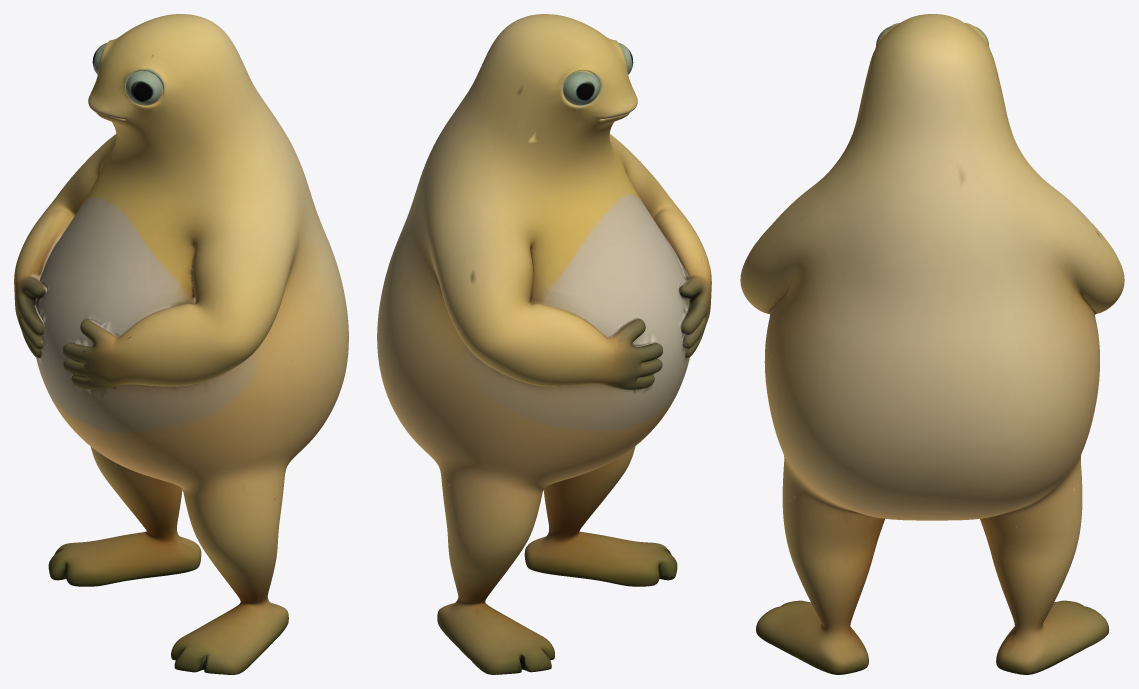
The model's file is naiwa-opt.glb.
3 renders of one model, left to right at view 1: azimuth 30°, elevation 25°; view 2: azimuth 150°, elevation 25°; view 3: azimuth 270°, elevation 25°, orthographic. The views are drawn at different scales.
Parts seen in each view (by area): view 1: node_0; view 2: node_0; view 3: node_0.
Part boxes in pixels (<box>): node_0: <box>14,14,348,674</box>; node_0: <box>377,14,711,674</box>; node_0: <box>740,14,1124,674</box>.
Bounding box in the file's own units: 0.5229 × 1.06 × 0.597.
1 material, 1 textured.
